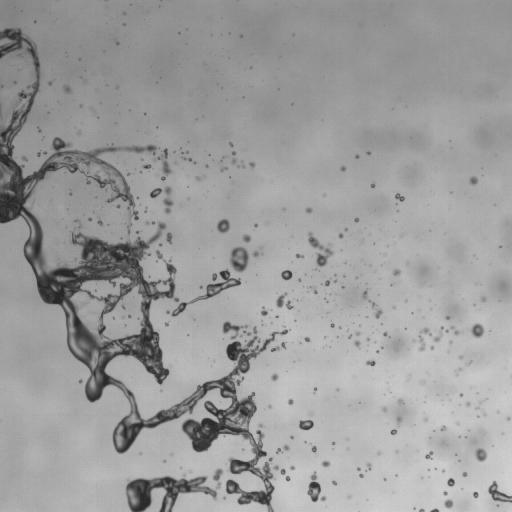droplet: (308, 232, 334, 269), (150, 186, 173, 213), (229, 246, 250, 272), (276, 292, 293, 309), (470, 323, 483, 337), (217, 218, 229, 233), (475, 448, 487, 461), (299, 420, 313, 430), (281, 270, 292, 280), (444, 499, 453, 508), (469, 176, 477, 185), (395, 193, 404, 201), (166, 232, 172, 243), (63, 85, 71, 93), (242, 234, 250, 242), (321, 460, 330, 467), (261, 307, 268, 315), (425, 451, 432, 459), (447, 478, 454, 486), (366, 360, 375, 366), (310, 286, 317, 293), (392, 269, 400, 275), (396, 416, 402, 424), (305, 207, 312, 213), (252, 251, 259, 257), (324, 279, 330, 286), (354, 340, 360, 347), (271, 374, 278, 380), (390, 428, 397, 434), (143, 164, 151, 169), (366, 462, 371, 470), (249, 162, 255, 168), (231, 158, 236, 164), (239, 161, 244, 167), (473, 491, 478, 497), (195, 176, 202, 180), (312, 445, 316, 452), (221, 166, 226, 171), (338, 233, 343, 238), (288, 399, 293, 404), (398, 399, 403, 404), (381, 407, 386, 412), (441, 425, 446, 430), (22, 156, 27, 160), (341, 166, 345, 171), (116, 204, 121, 208), (354, 218, 359, 222), (481, 296, 485, 301), (355, 331, 360, 335), (383, 332, 388, 336), (305, 337, 310, 341), (290, 465, 294, 470), (462, 472, 467, 476), (37, 127, 41, 131), (371, 183, 375, 187), (88, 217, 92, 221), (466, 402, 470, 406), (274, 465, 278, 469), (332, 481, 336, 485), (443, 491, 447, 495), (48, 81, 52, 84), (232, 151, 235, 155), (37, 152, 40, 156), (355, 155, 359, 158), (165, 322, 168, 326), (331, 323, 334, 327), (430, 345, 433, 349), (459, 355, 462, 359), (421, 380, 424, 384), (359, 474, 363, 477), (13, 80, 16, 83), (77, 131, 80, 134), (229, 143, 232, 146), (367, 151, 370, 154), (144, 208, 147, 211), (121, 305, 124, 308), (446, 316, 449, 319), (366, 337, 369, 340), (79, 380, 82, 383), (313, 389, 316, 392), (476, 406, 479, 409), (357, 467, 360, 470), (348, 495, 351, 498), (44, 151, 46, 154), (69, 192, 72, 194), (254, 224, 257, 226), (136, 231, 139, 233), (159, 243, 161, 246), (128, 315, 131, 317), (349, 335, 351, 338), (460, 393, 462, 396), (507, 417, 509, 420), (290, 436, 293, 438), (223, 496, 225, 499), (7, 85, 9, 87), (298, 279, 300, 281), (334, 280, 336, 282), (413, 339, 415, 341), (449, 341, 451, 343), (376, 350, 378, 352), (469, 361, 471, 363), (269, 405, 271, 407), (425, 418, 427, 420), (457, 422, 459, 424), (332, 442, 334, 444), (378, 452, 380, 454), (442, 470, 444, 472)
ligament: (0, 31, 288, 511), (125, 468, 223, 511), (153, 148, 171, 180), (307, 472, 326, 502), (362, 290, 382, 318), (488, 481, 511, 503), (432, 326, 460, 342), (418, 327, 431, 351), (271, 342, 285, 351), (280, 469, 290, 481), (96, 214, 104, 227), (276, 445, 289, 453), (182, 154, 190, 160), (455, 368, 461, 375), (296, 253, 304, 258), (0, 79, 3, 90), (430, 508, 439, 511), (146, 221, 154, 224), (418, 509, 424, 511)
